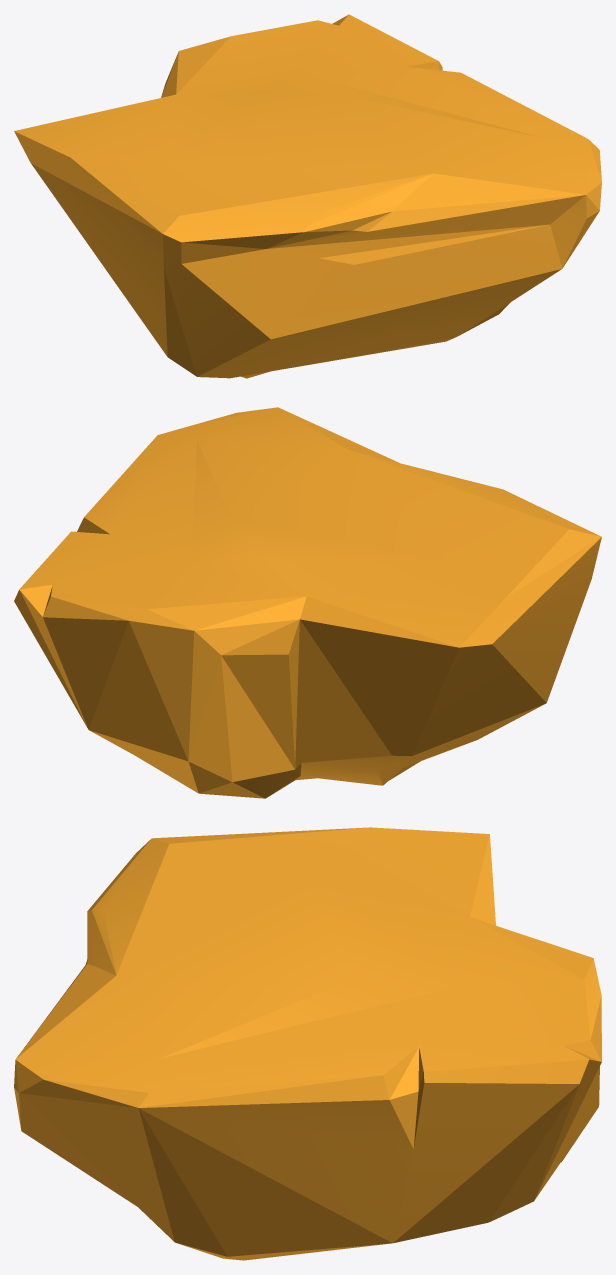
The model's file is SM_Iceberg_Small_A.fbx.
The picture shows the model from 3 angles, top to bottom: view 1: azimuth 30°, elevation 25°; view 2: azimuth 150°, elevation 25°; view 3: azimuth 270°, elevation 25°; orthographic projection. The views are drawn at different scales.
Visible parts, largest first — view 1: iceberg-small-a; view 2: iceberg-small-a; view 3: iceberg-small-a.
Part boxes in pixels (x1,y1,x2,y2): iceberg-small-a: (14, 14, 601, 378); iceberg-small-a: (14, 407, 601, 798); iceberg-small-a: (14, 827, 601, 1260).
Bounding box in the file's own units: 3.54 × 1.82 × 3.41.
